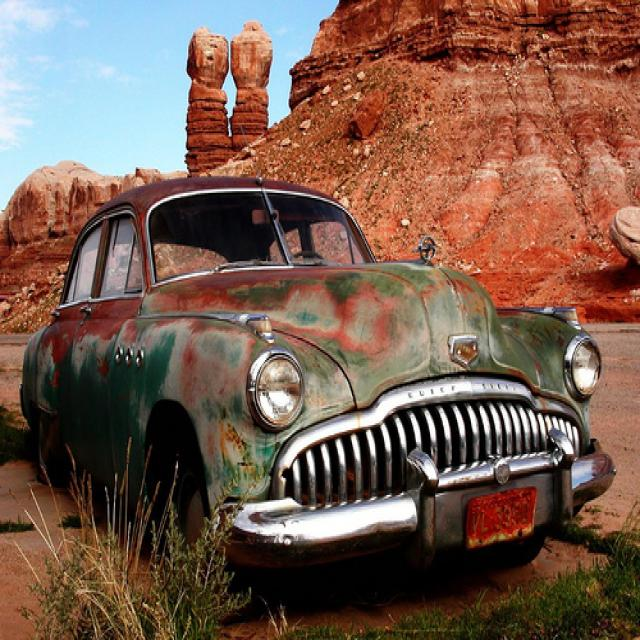Car: (18, 165, 620, 626)
